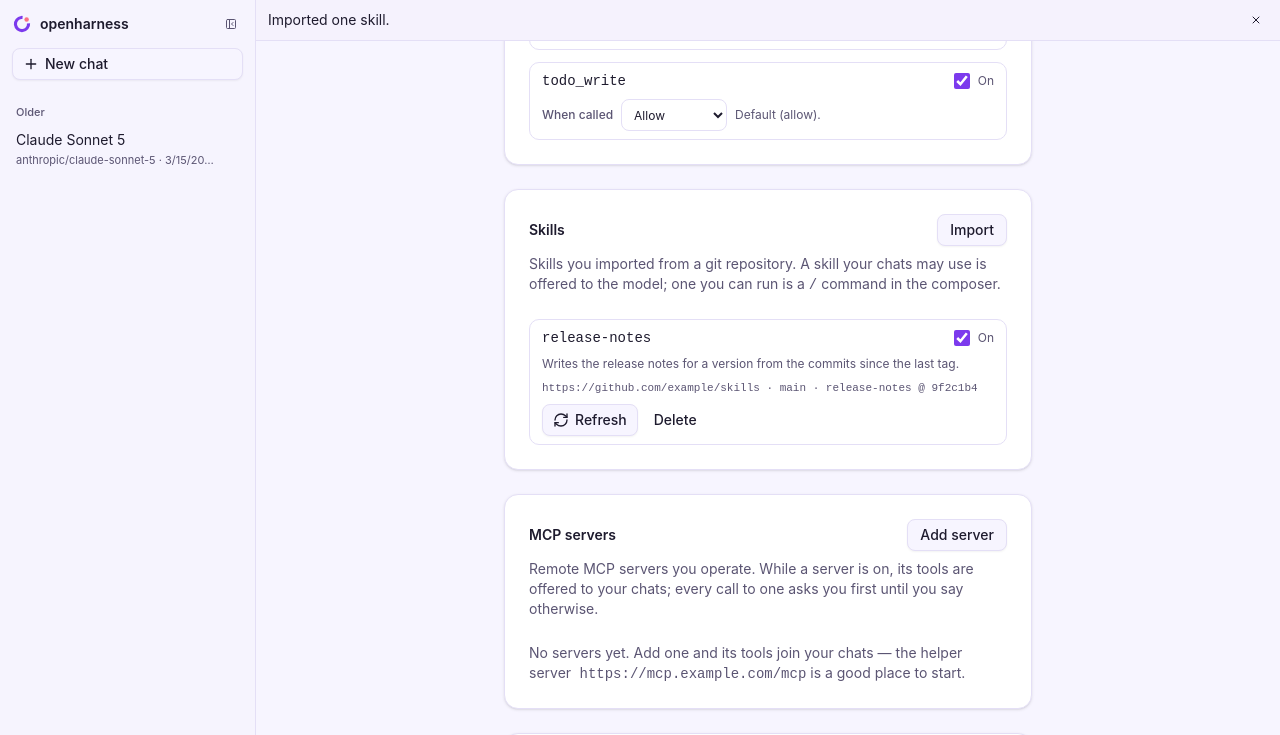
Test: Settings → Skills: the refresh (#349, K5; #353) › previews the diff and replaces the snapshot on confirm
(page scrolled)
Click the button with aria-label "Refresh release-notes". click: coordinates (590, 420)
box: [542,404,638,436]
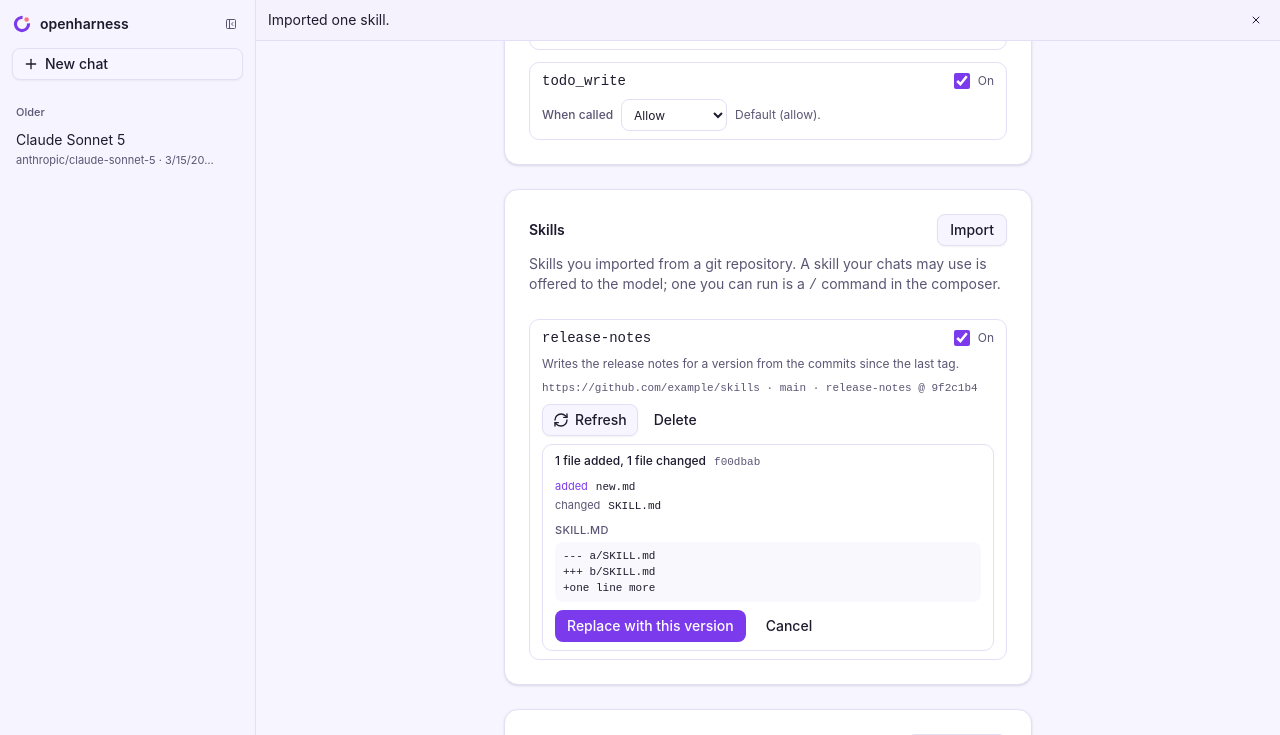
Result: the text "new.md" is shown at [596,479,635,495]
Result: the text "SKILL.md" below "new.md" is shown at [608,500,661,512]
Result: the text "--- a/SKILL.md +++ b/SKILL.md +one line more" is shown at [555,542,981,602]
Click the button "Replace with this version". click: coordinates (650, 626)
box: [555,610,746,642]
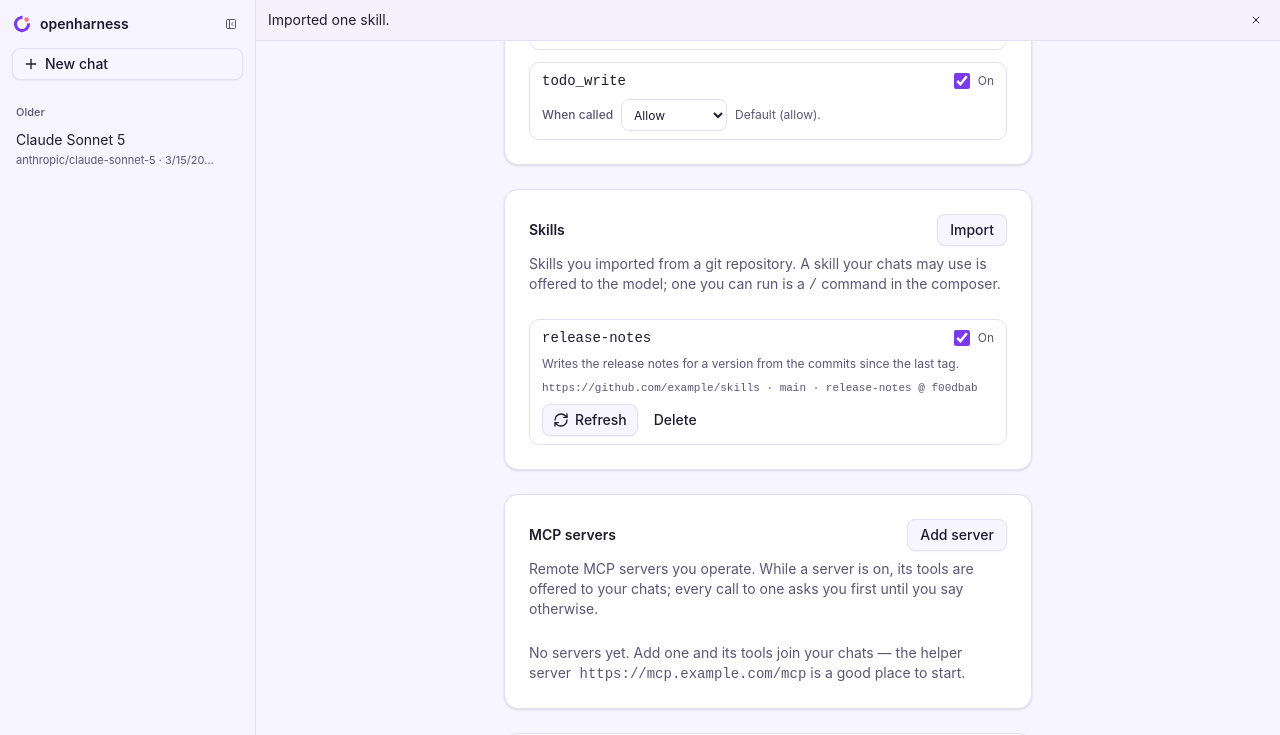
Result: the text "1 file added, 1 file changed" is gone
